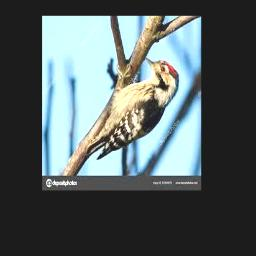Woodpecker: (86, 57, 179, 160)
